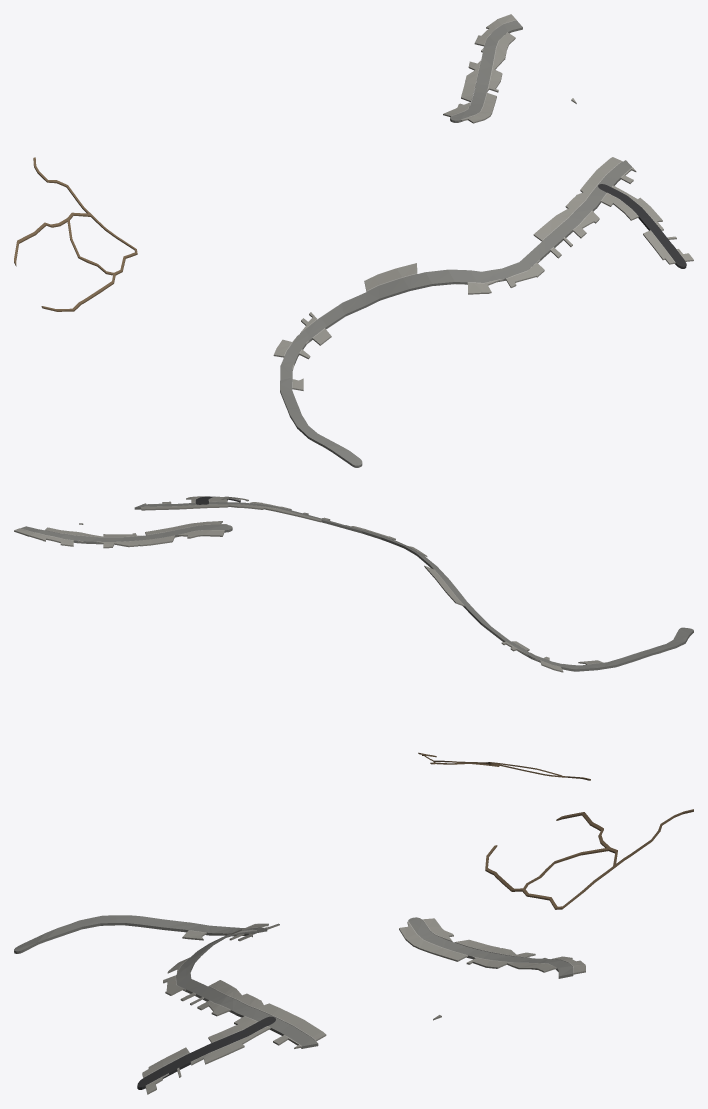
File: 17-109446-59469.08bd2ddc.glb
3 renders of one model, top to bottom at view 1: azimuth 30°, elevation 25°; view 2: azimuth 150°, elevation 25°; view 3: azimuth 270°, elevation 25°, orthographic. The views are drawn at different scales.
Size of the model in its own units: 293 by 98.08 by 291.
